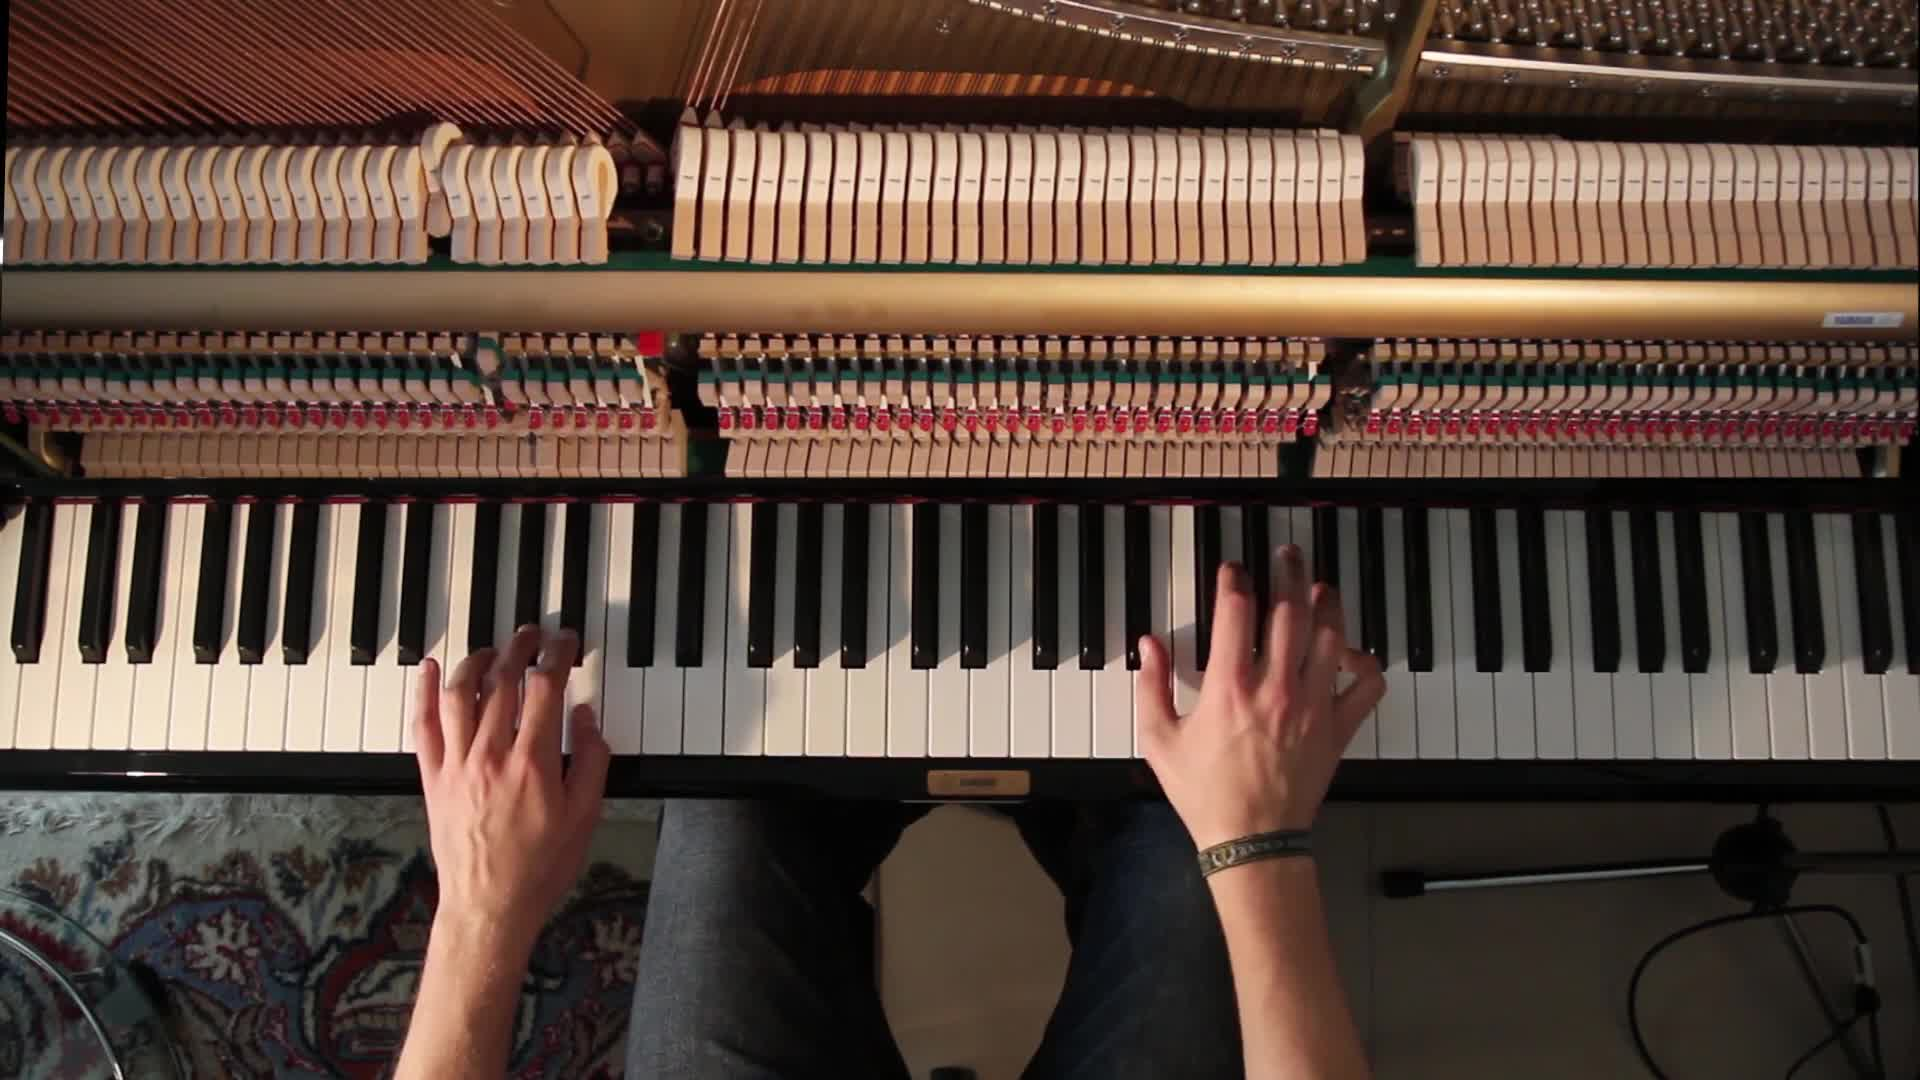left: (406, 618, 611, 903)
right: (1135, 545, 1386, 847)
